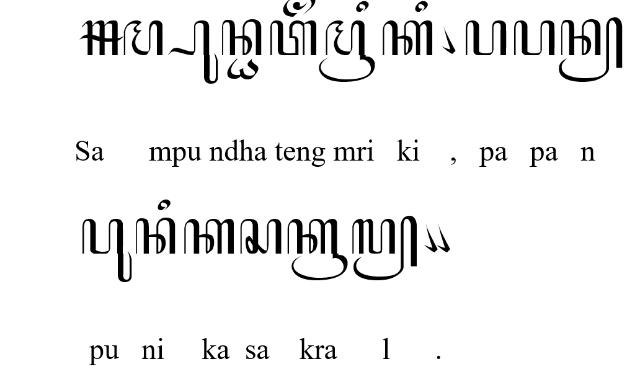-l: (352, 216, 418, 280)
-n: (559, 17, 623, 83)
S: (79, 20, 123, 56)
_dh: (227, 58, 259, 80)
_pu: (168, 19, 218, 84)
eng: (283, 0, 315, 17)
i: (414, 0, 428, 12), (157, 199, 171, 211), (356, 0, 369, 12)
k: (183, 218, 234, 254), (382, 21, 432, 56)
kom: (422, 224, 438, 252), (441, 26, 455, 54), (436, 225, 450, 253)
kr: (286, 218, 348, 282)
m: (124, 20, 162, 56)
mr: (319, 20, 375, 82)
n: (222, 18, 262, 56), (136, 217, 176, 255)
p: (465, 20, 507, 56), (514, 20, 554, 56)
pu: (81, 219, 132, 283)
s: (240, 218, 282, 254)
t: (270, 20, 316, 56)
